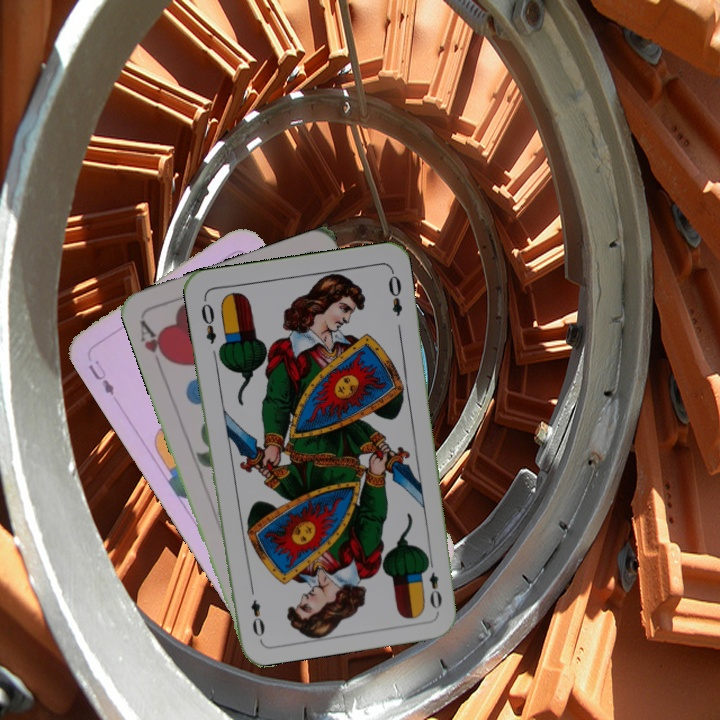EO: (421, 554, 445, 611), (197, 294, 219, 346)
EU: (83, 356, 117, 398)
HA: (136, 315, 173, 372)
